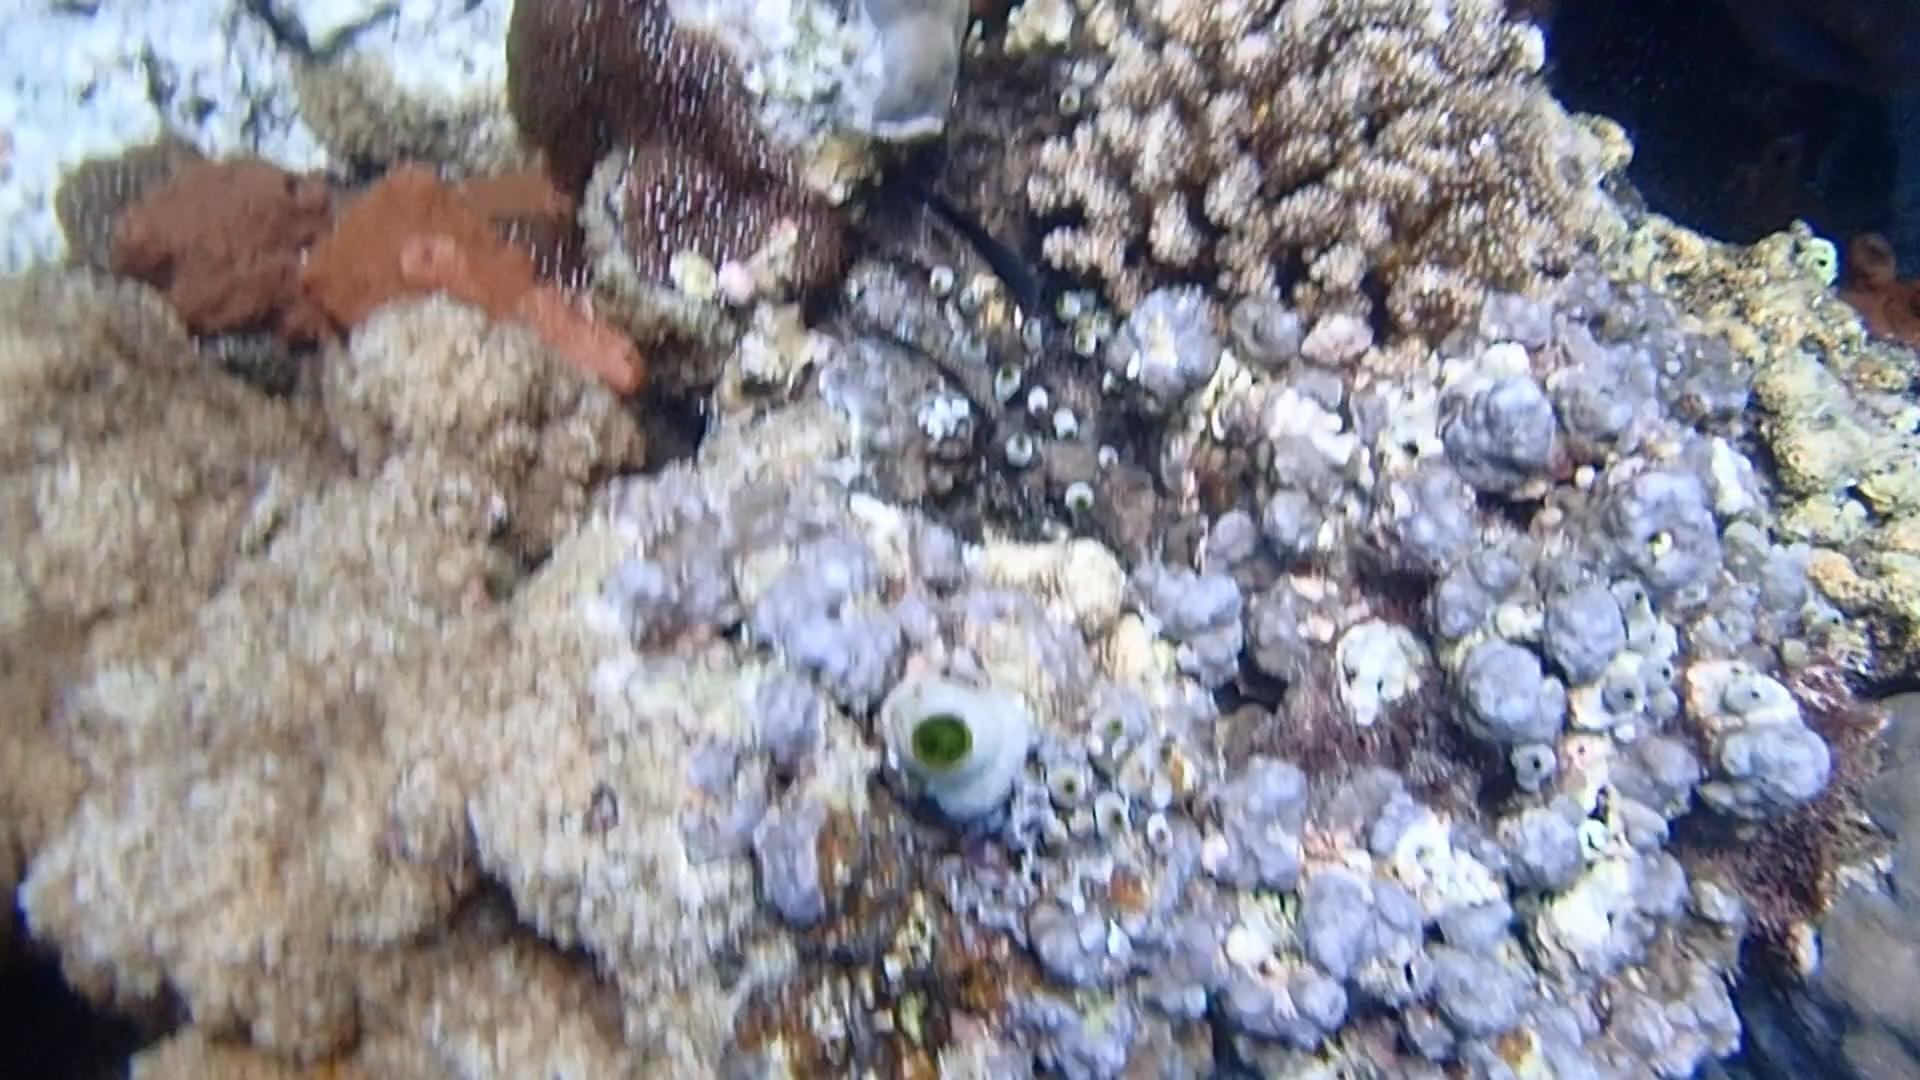Dark Fish: (878, 152, 1052, 322)
